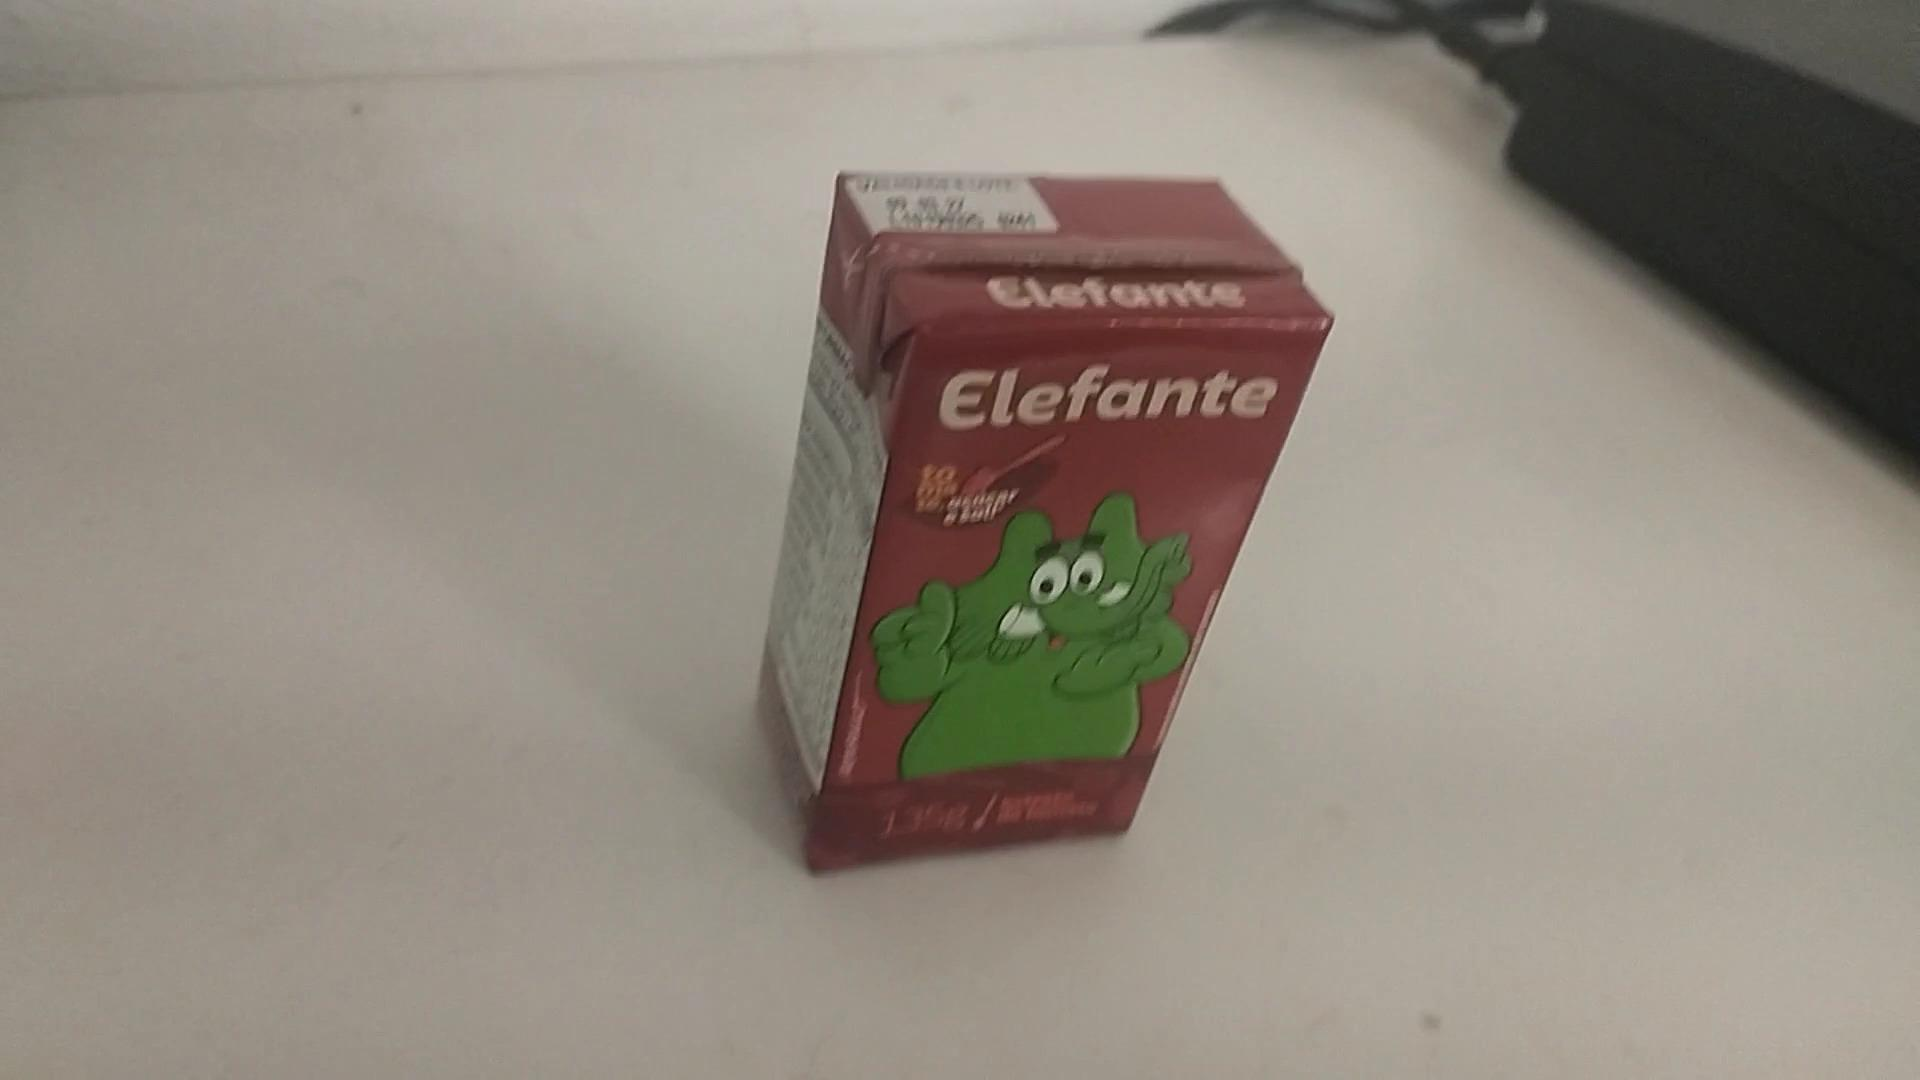tomate: (749, 153, 1340, 873)
